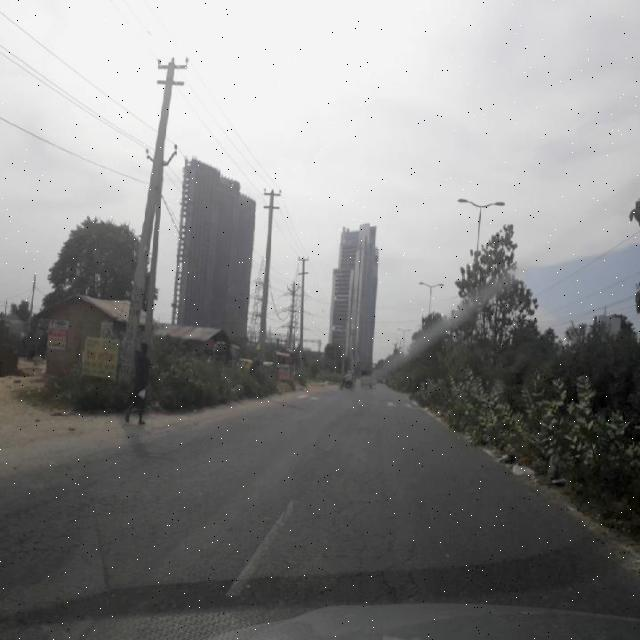D20: (0, 466, 200, 628), (269, 469, 434, 614)
D44: (231, 486, 300, 591)
